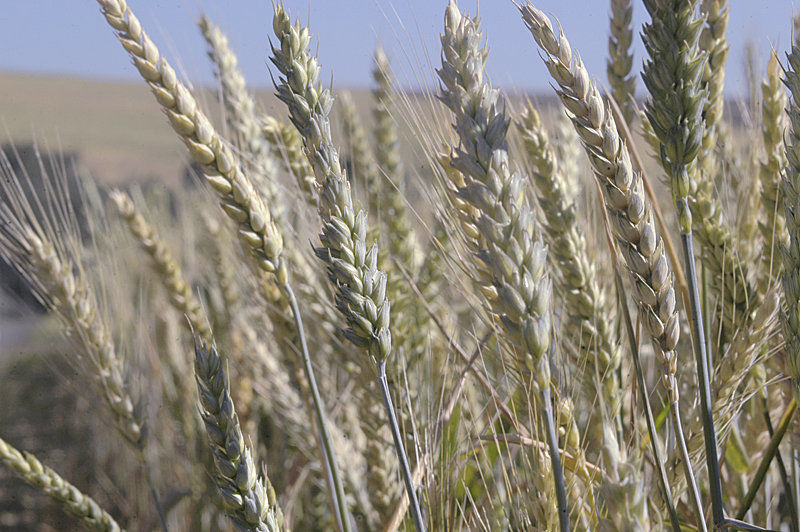wheat: (432, 1, 777, 502), (97, 1, 430, 449), (7, 174, 184, 466), (1, 433, 138, 530)
